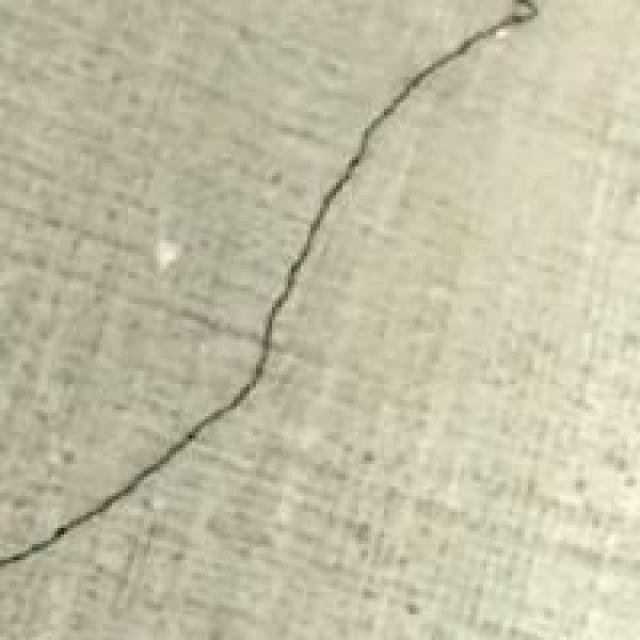Crack: (0, 0, 560, 618)
